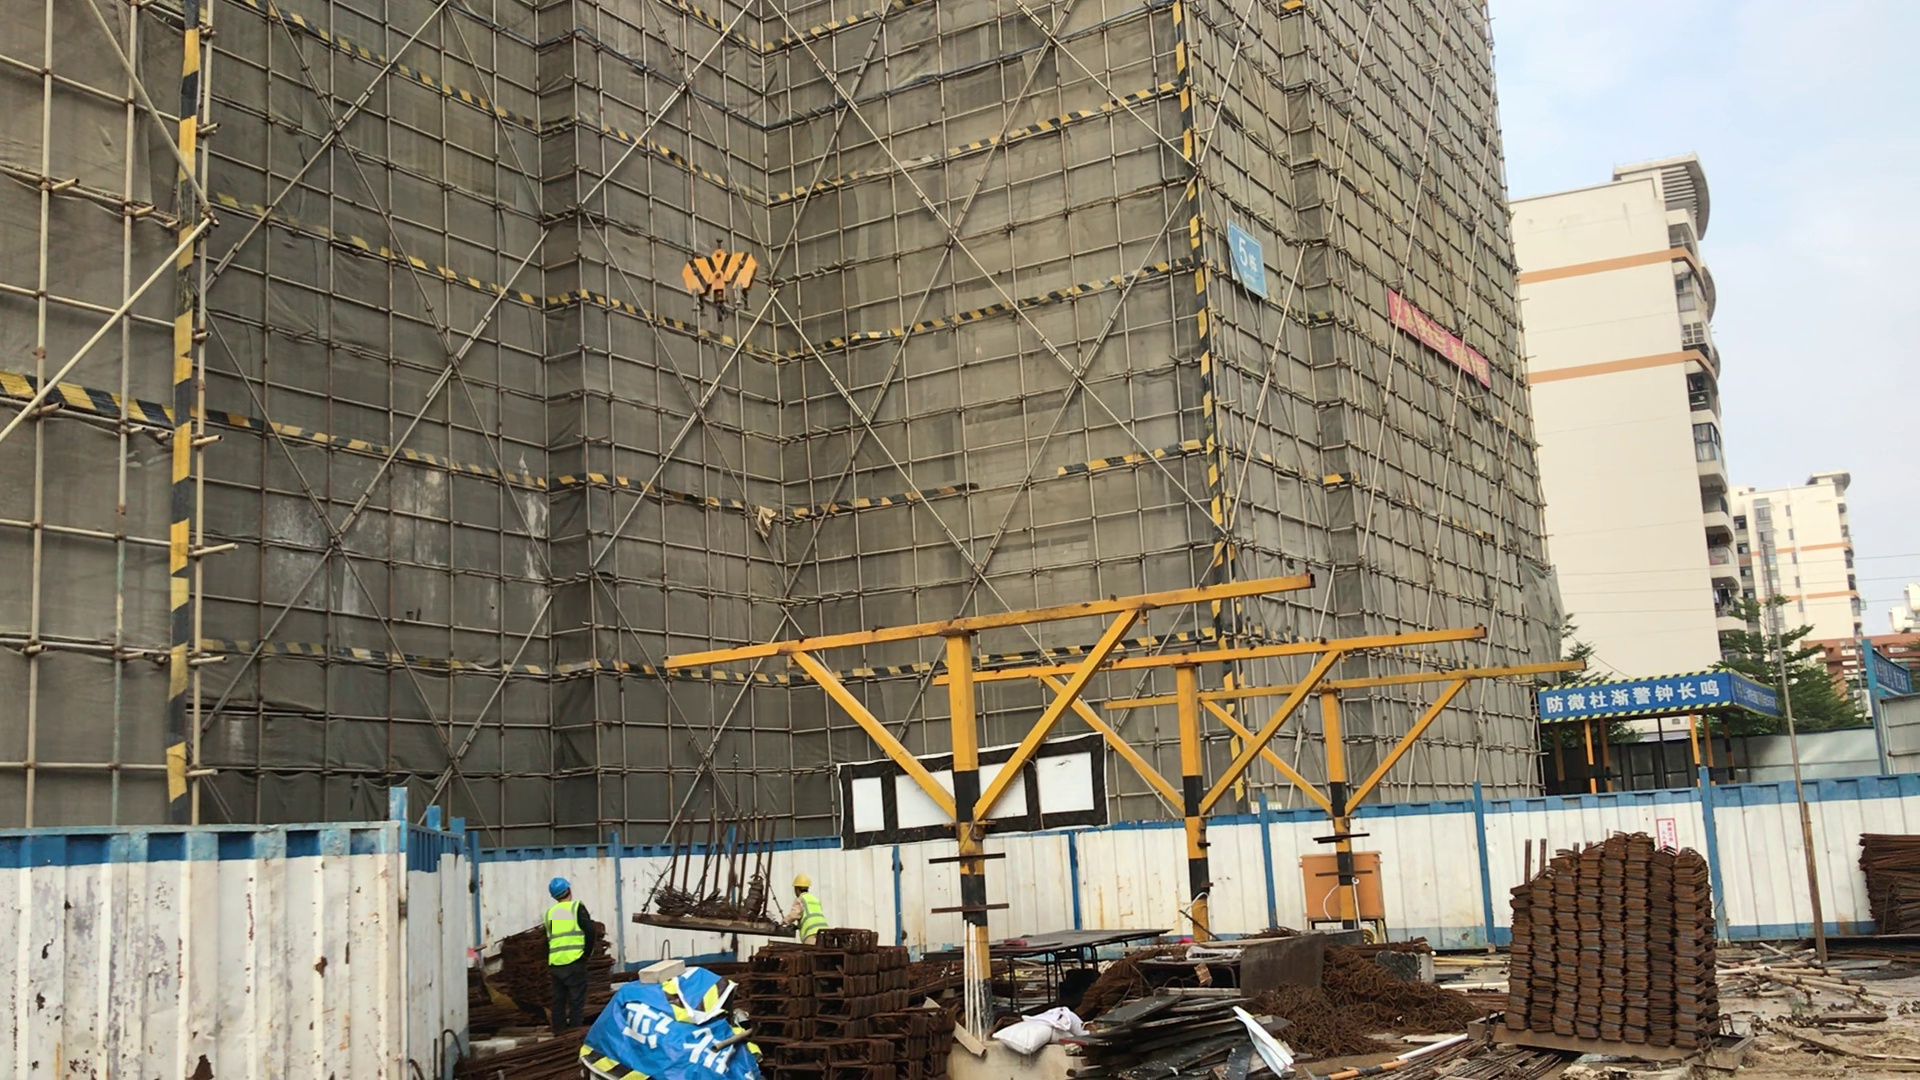ebox: (1292, 847, 1391, 928)
helmet: (547, 879, 575, 901), (792, 872, 813, 892)
hook: (676, 226, 764, 330)
person: (538, 875, 601, 1039), (785, 869, 830, 945)
slogan: (1378, 282, 1498, 389), (1537, 674, 1731, 719), (1221, 216, 1272, 302)
vest: (542, 902, 587, 971), (790, 894, 827, 933)
